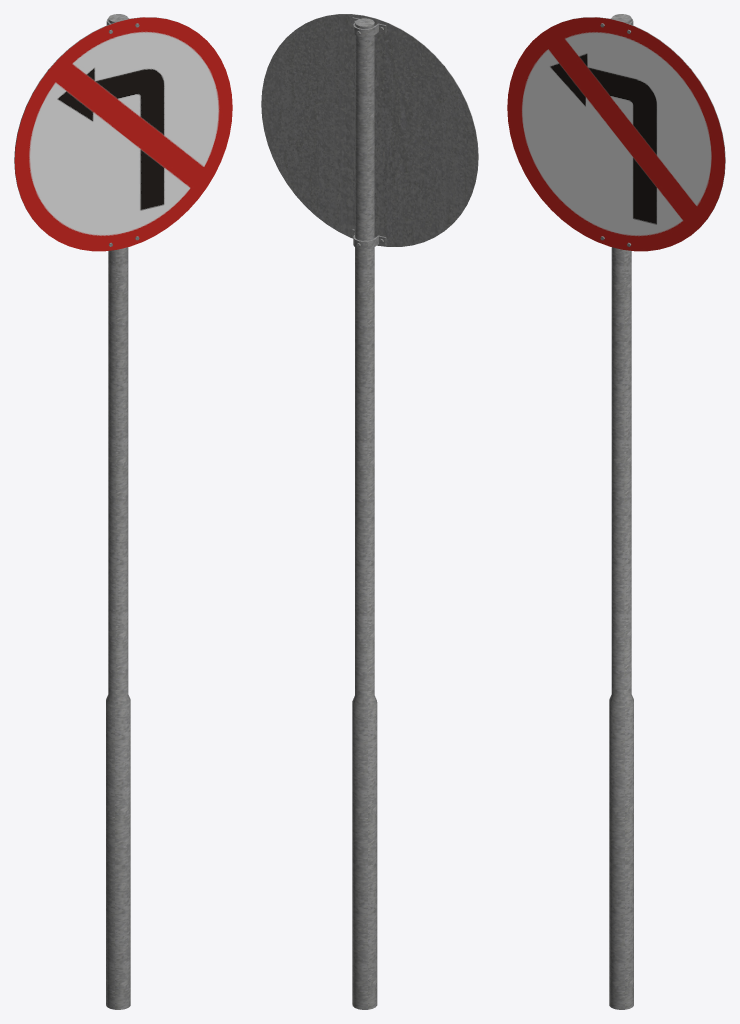
The model's file is noturnleft.obj.
The picture shows the model from 3 angles, left to right: view 1: azimuth 30°, elevation 25°; view 2: azimuth 150°, elevation 25°; view 3: azimuth 330°, elevation 25°; orthographic projection.
Parts seen in each view (by area): view 1: traffic_signs-01.004; view 2: traffic_signs-01.004; view 3: traffic_signs-01.004.
Boxes of the visible parts, <box> form: traffic_signs-01.004: <box>14,14,232,1009</box>; traffic_signs-01.004: <box>261,14,478,1009</box>; traffic_signs-01.004: <box>507,14,725,1009</box>.
Size of the model in its own units: 1.2 by 5.2 by 0.1237.
